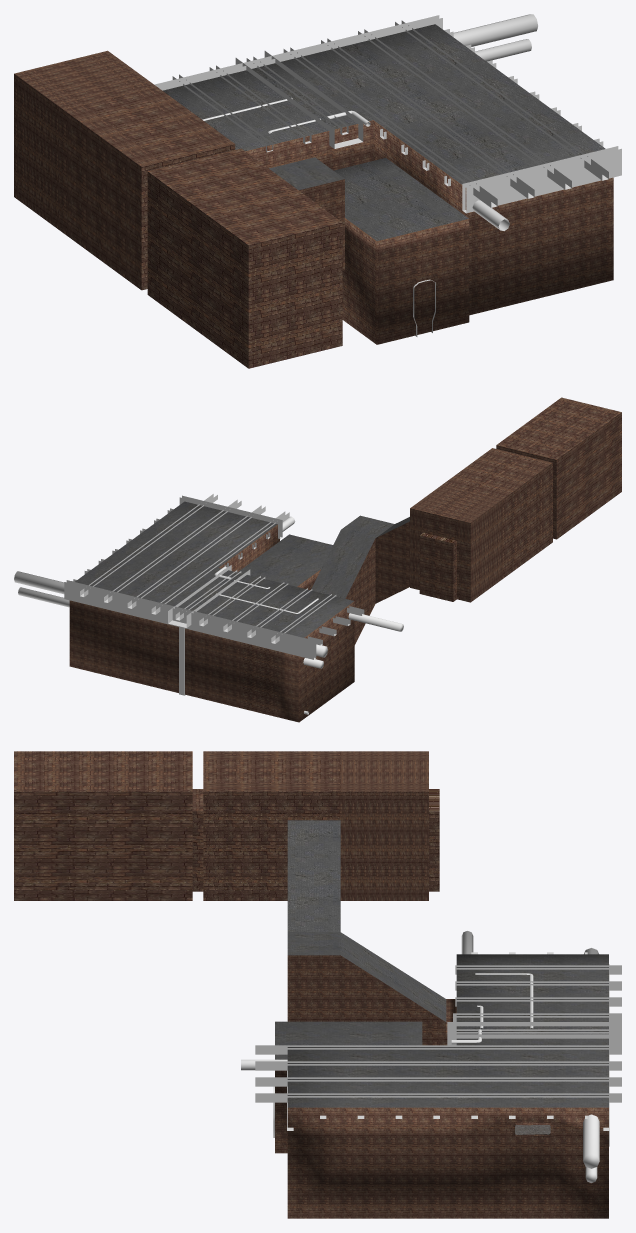
Rendered from Basement.fbx.
The picture shows the model from 3 angles, top to bottom: view 1: azimuth 30°, elevation 25°; view 2: azimuth 150°, elevation 25°; view 3: azimuth 270°, elevation 25°; orthographic projection. The views are drawn at different scales.
Parts seen in each view (by area): view 1: Basement, Cube.003, Cube, Cylinder, Stairs; view 2: Basement, Cube.003, Cube, Stairs, Cylinder; view 3: Basement, Cube.003, Stairs, Cube, Cylinder.
Part boxes in pixels (<box>): Basement: <box>163,24,613,344</box>; Cube.003: <box>14,50,342,368</box>; Cube: <box>154,15,621,213</box>; Cylinder: <box>202,14,537,230</box>; Stairs: <box>269,157,344,270</box>; Basement: <box>69,501,354,722</box>; Cube.003: <box>410,397,621,602</box>; Cube: <box>64,494,364,695</box>; Stairs: <box>311,515,409,644</box>; Cylinder: <box>14,516,403,714</box>; Basement: <box>275,954,608,1218</box>; Cube.003: <box>14,751,439,900</box>; Stairs: <box>287,820,446,1045</box>; Cube: <box>255,952,621,1146</box>; Cylinder: <box>241,931,599,1182</box>.
Size of what is drawn, in the model's own units: 1649 by 736 by 1606.
